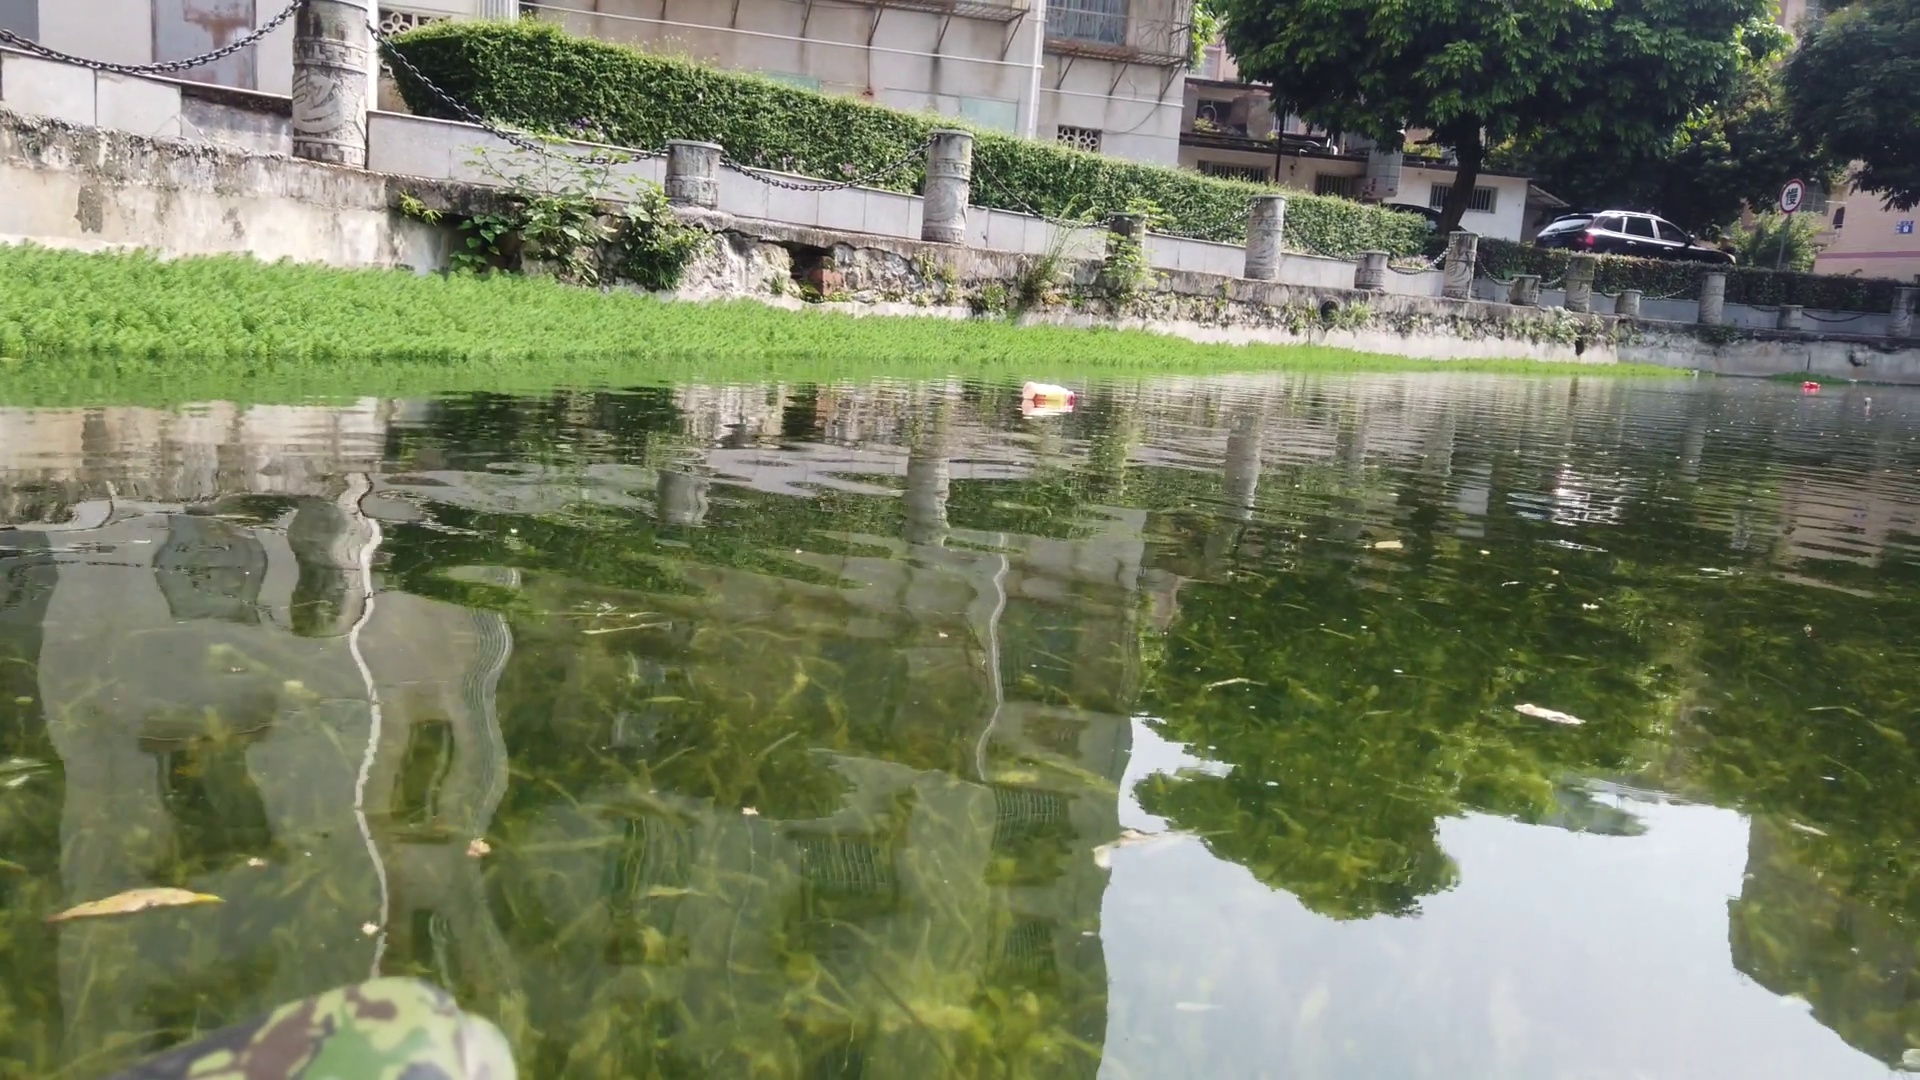bottle: (1023, 380, 1076, 402), (1803, 378, 1822, 393), (1859, 394, 1876, 407)
